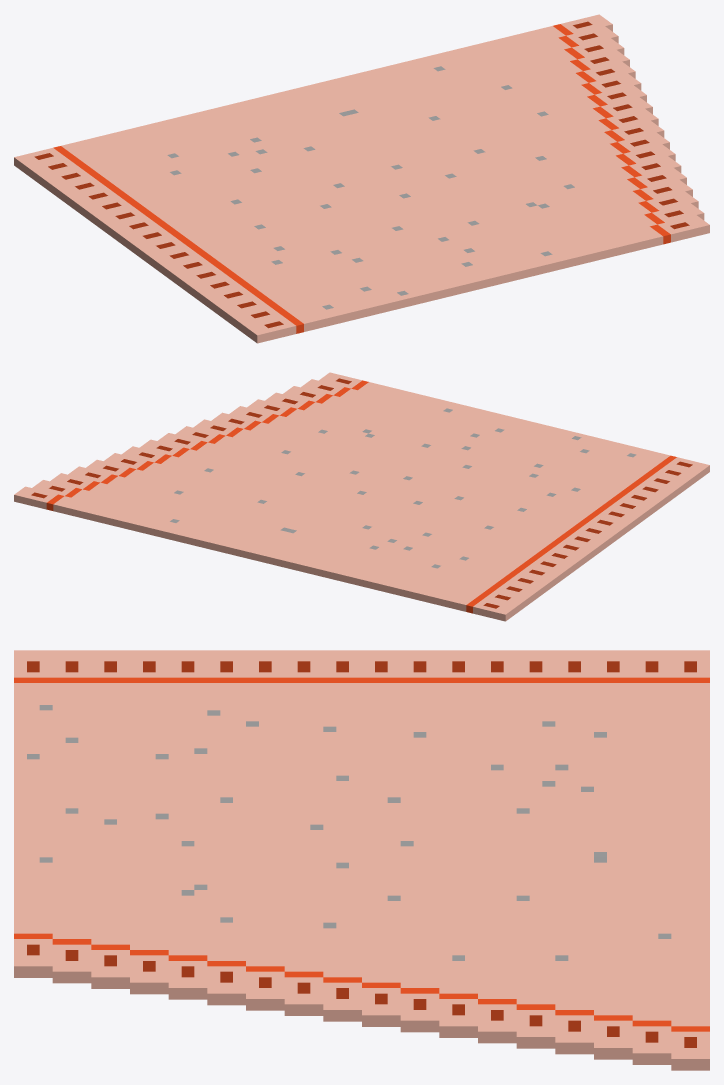
The model's file is Split_0-1.obj.
3 views of the same model, one above another, from view 1: azimuth 30°, elevation 25°; view 2: azimuth 150°, elevation 25°; view 3: azimuth 270°, elevation 25° (orthographic). The views are drawn at different scales.
Visible parts, largest first — view 1: Split_0-1; view 2: Split_0-1; view 3: Split_0-1.
Boxes of the visible parts, box(x1,y1,x2,y2) form: Split_0-1: box(14, 14, 709, 343); Split_0-1: box(14, 372, 709, 621); Split_0-1: box(14, 650, 709, 1070).
Size of the model in its own units: 75 by 1 by 54.
1 material, 1 textured.
